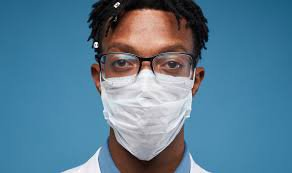mask: (81, 4, 230, 162)
